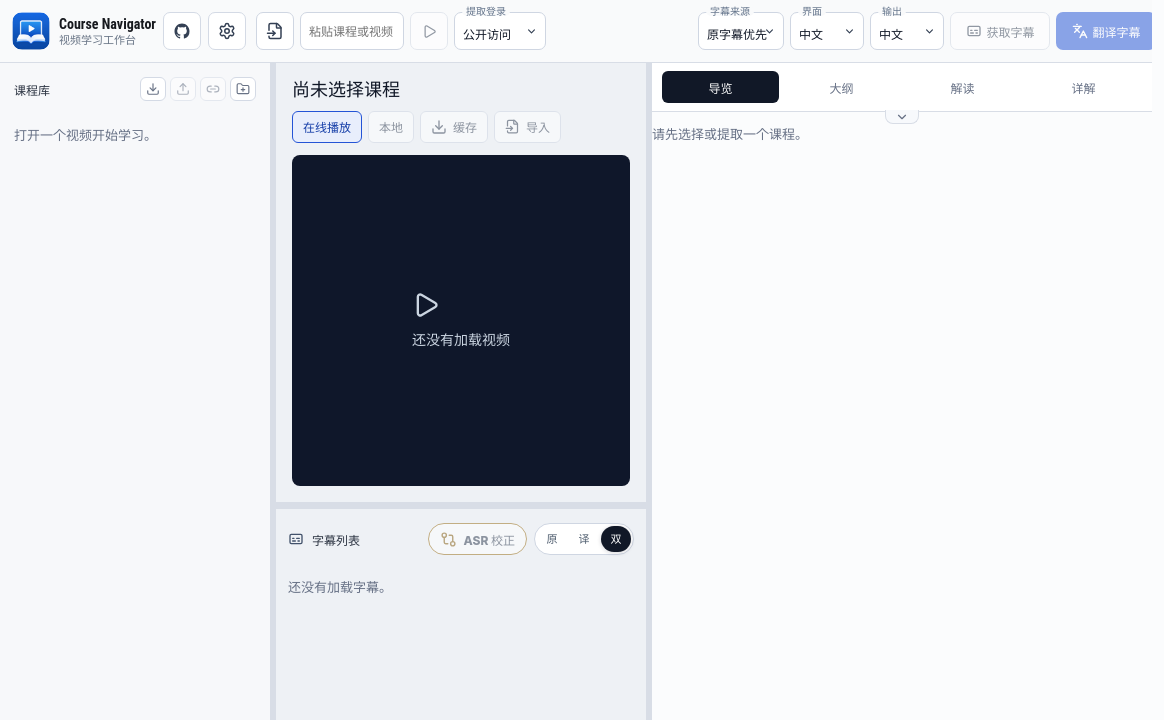
Test case: App language defaults › shows a cancel action only after subtitle extraction reaches ASR work
The width and height of the screenshot is (1164, 720).
Check: the button "获取字幕" is shown, box [950,12,1050,50]
Select "本地 ASR" in the dropdown labelled "字幕来源". click: (741, 31)
box: [698,12,784,50]
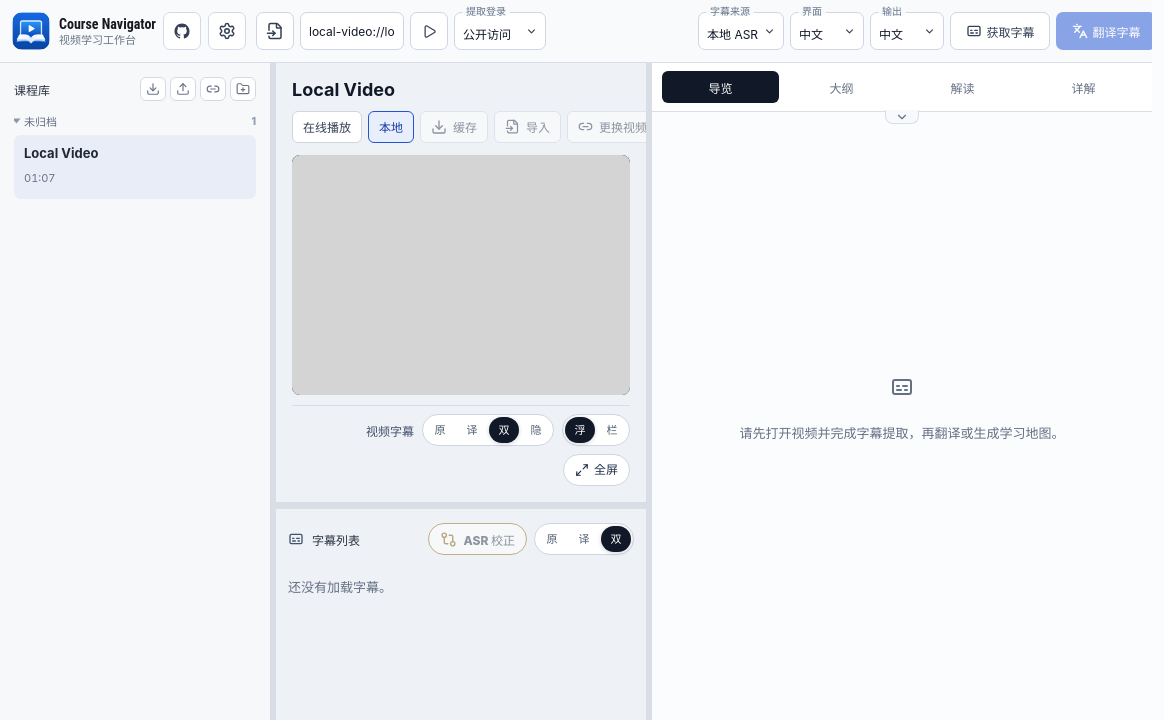
Click the button "获取字幕". click: (1000, 31)
box: [950,12,1050,50]
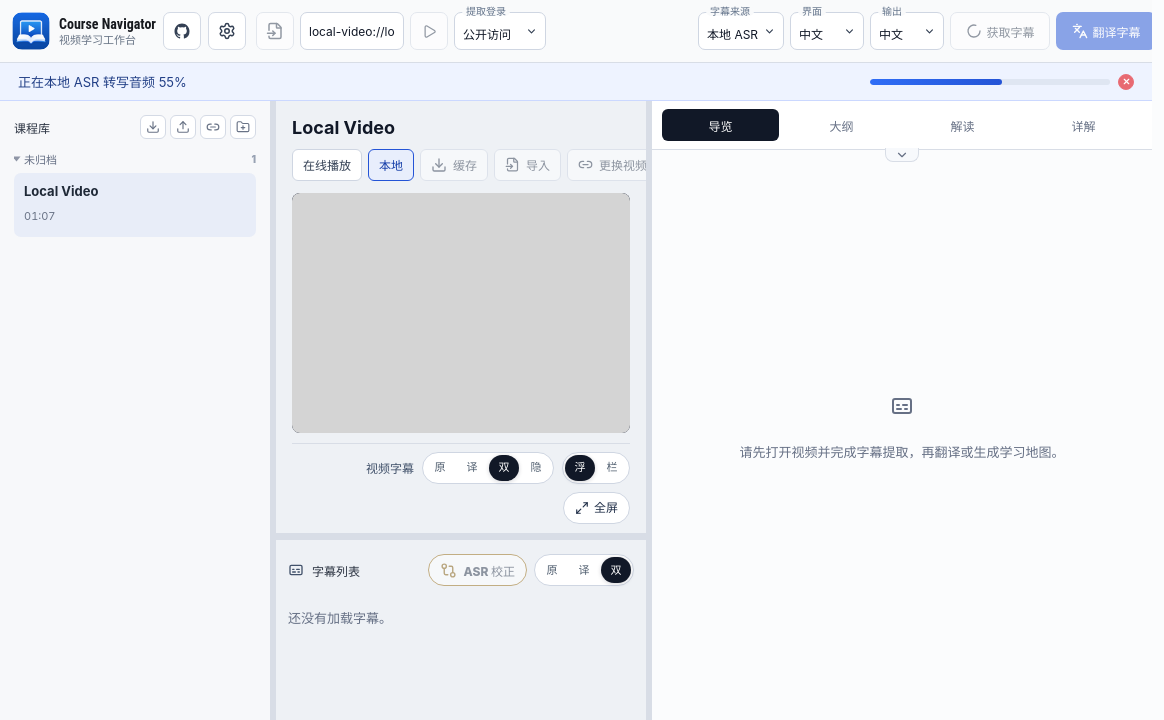
Click the button named "停止字幕提取". click: (1126, 82)
box: [1118,74,1134,90]
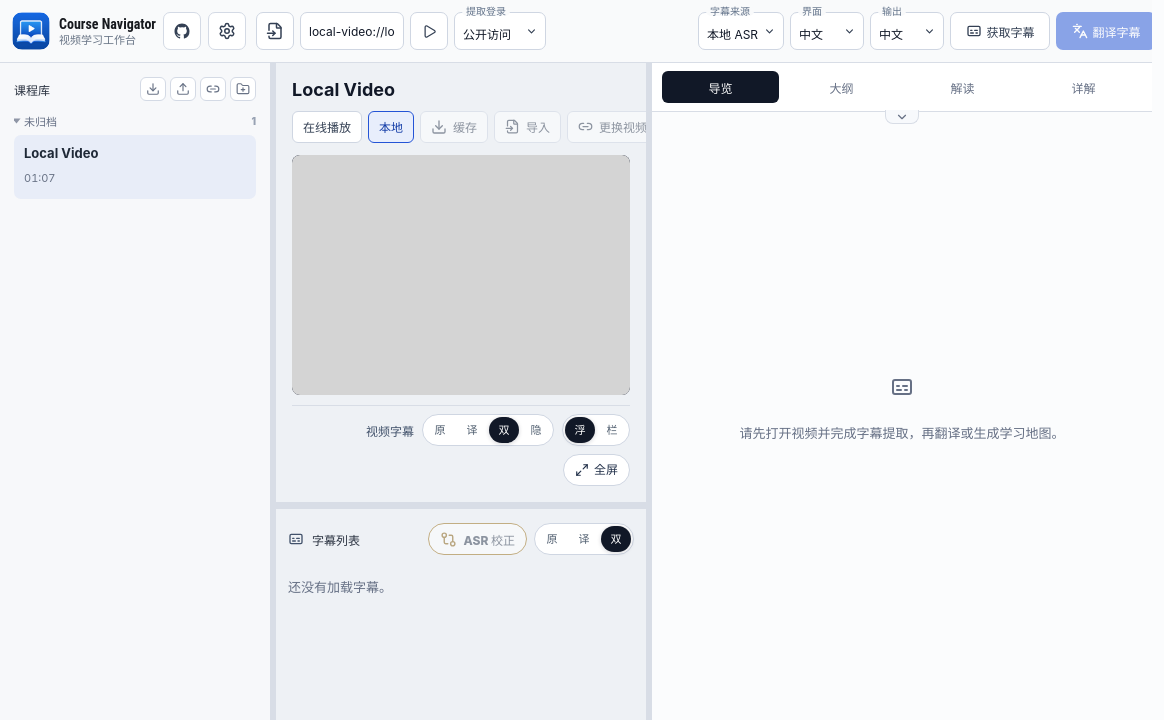
Check: the button "停止字幕提取" is gone
